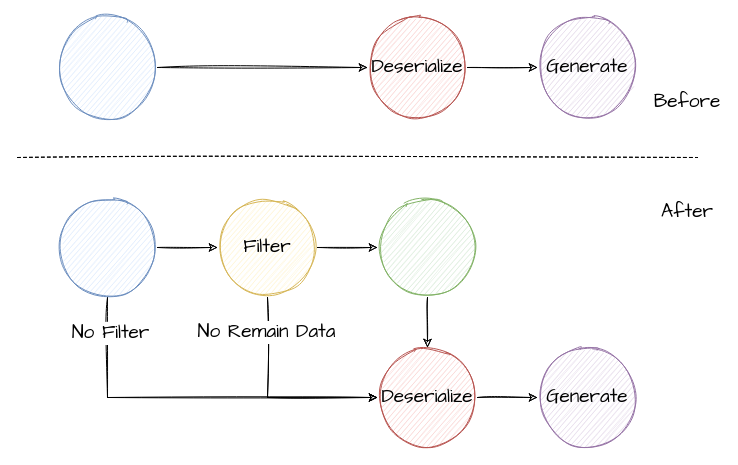
Some shapes in this 738 by 465 pixel diagram are drawn without their labels. Each missing label, with the centre of its shape:
ReadData: point 107,67
ReadData Prewhere: point 107,247
ReadData Remain: point 427,247
